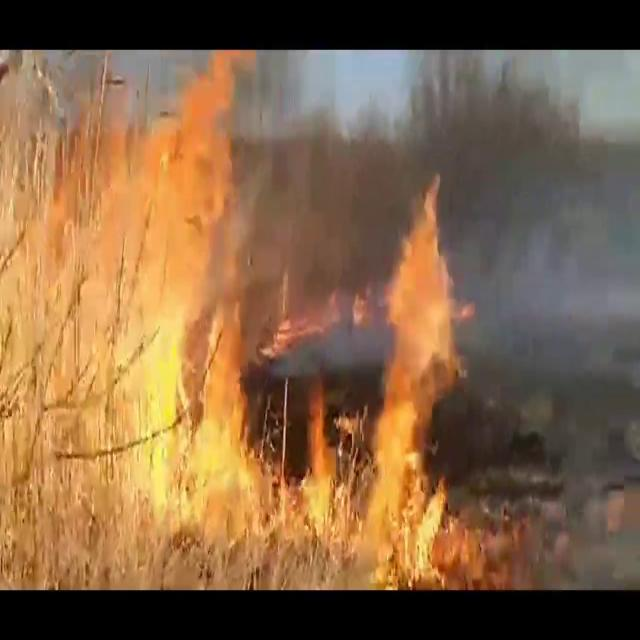Fire: (0, 85, 266, 554), (300, 167, 491, 573)
Smoke: (459, 87, 640, 569)
